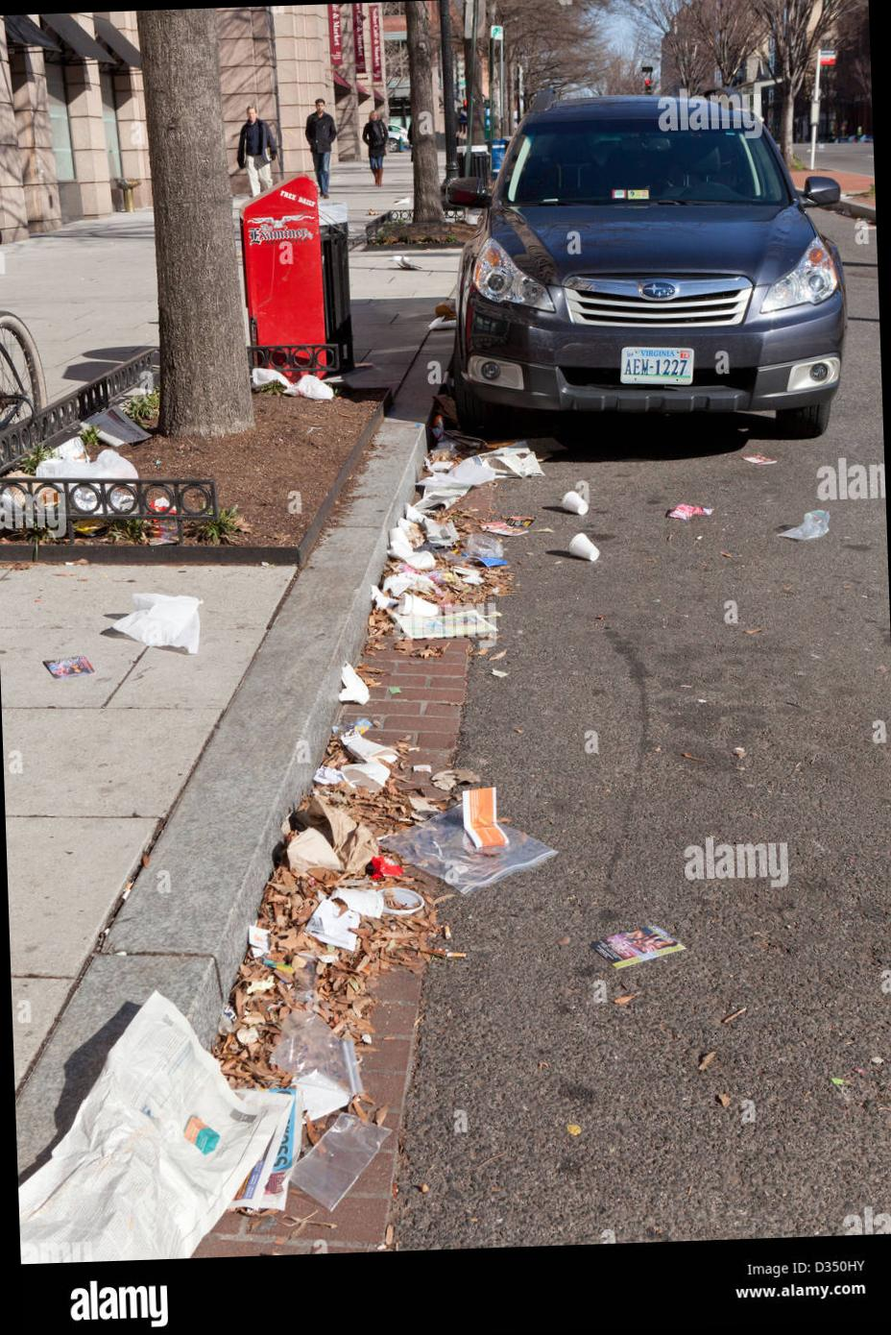pavement: (0, 564, 294, 1083), (0, 208, 158, 401)
road: (394, 213, 891, 1248)
trash: (20, 991, 289, 1261), (289, 1112, 392, 1210), (230, 1088, 301, 1209), (307, 795, 379, 871), (306, 888, 384, 950), (417, 458, 496, 508), (392, 603, 497, 640), (35, 449, 139, 479), (461, 786, 509, 848), (293, 1071, 351, 1121), (387, 526, 434, 569), (334, 888, 383, 918), (383, 570, 435, 596), (423, 517, 459, 548), (52, 435, 89, 459), (397, 593, 438, 614), (569, 532, 598, 561), (560, 491, 589, 513)
